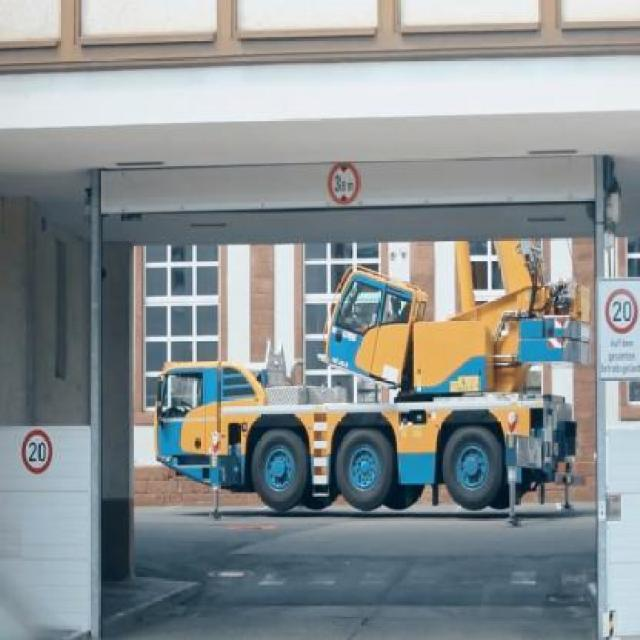Mobile Crane: (153, 238, 576, 519)
